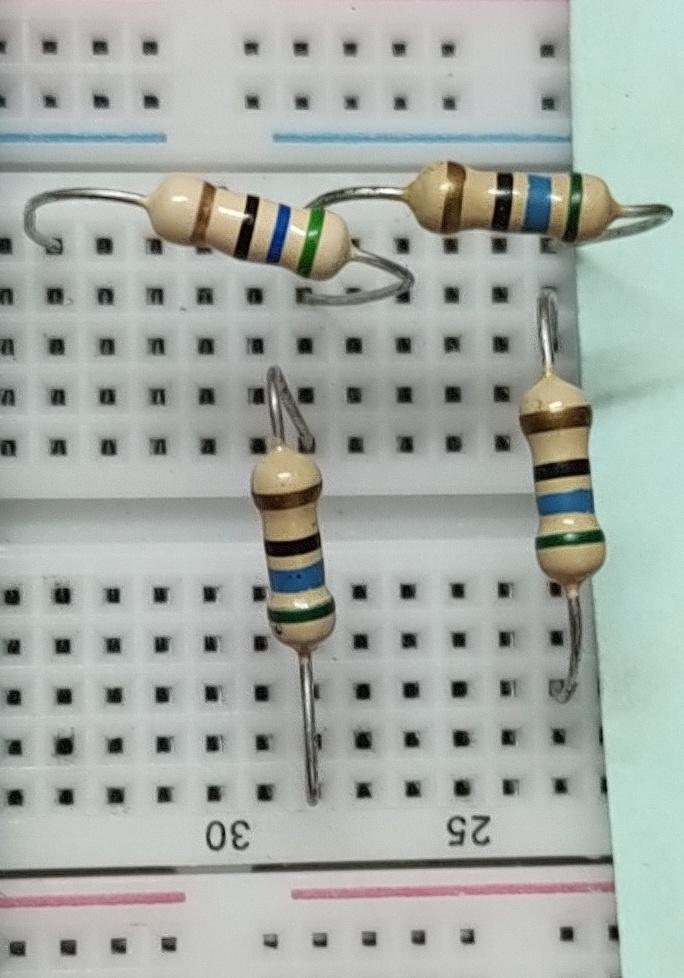resistor: (491, 357, 624, 605), (225, 437, 354, 665), (137, 159, 357, 289), (407, 143, 625, 262)
